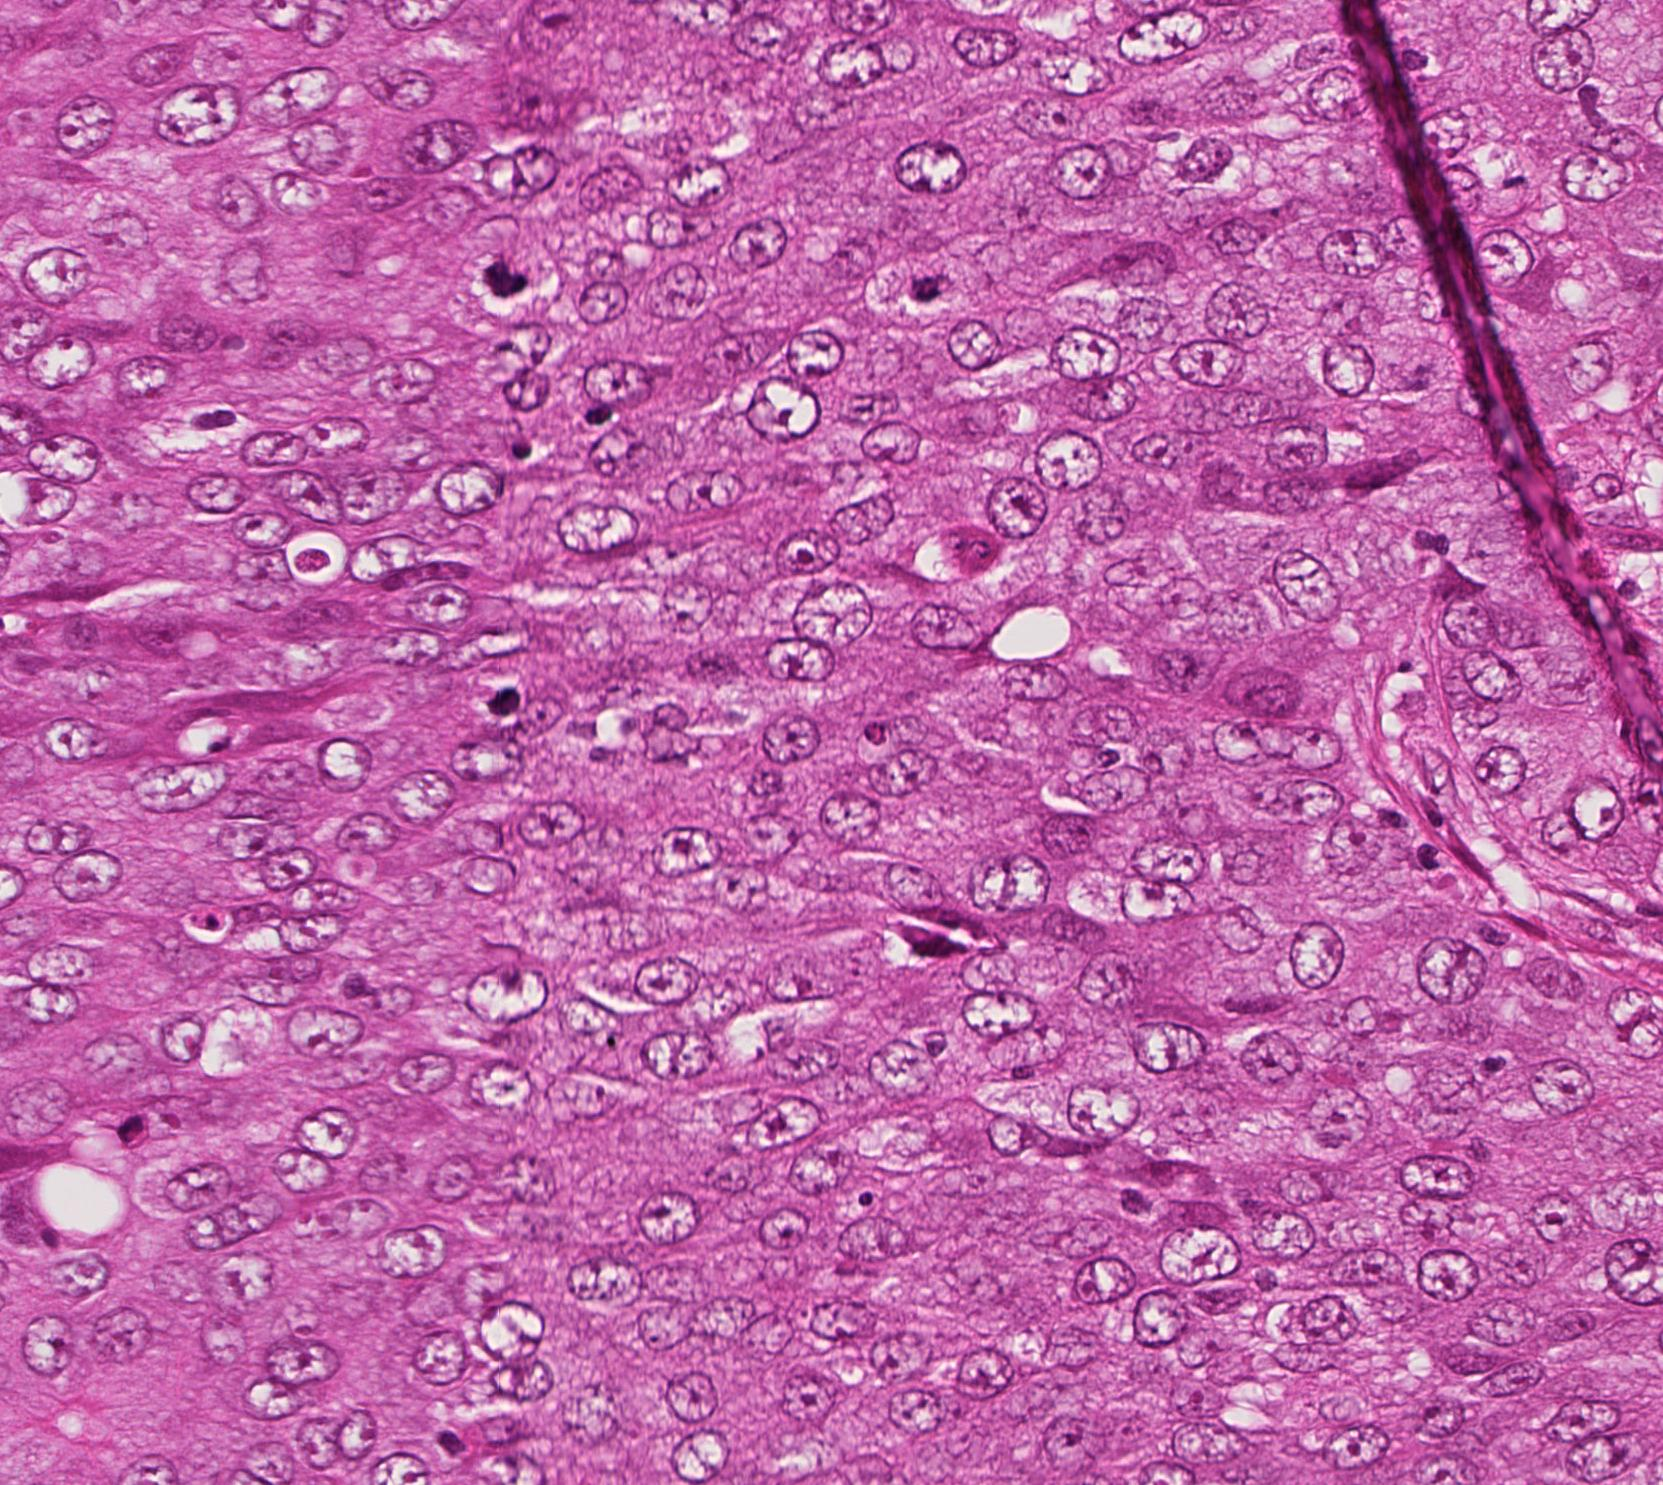mitosis: (902, 261, 962, 321), (475, 249, 533, 310)
